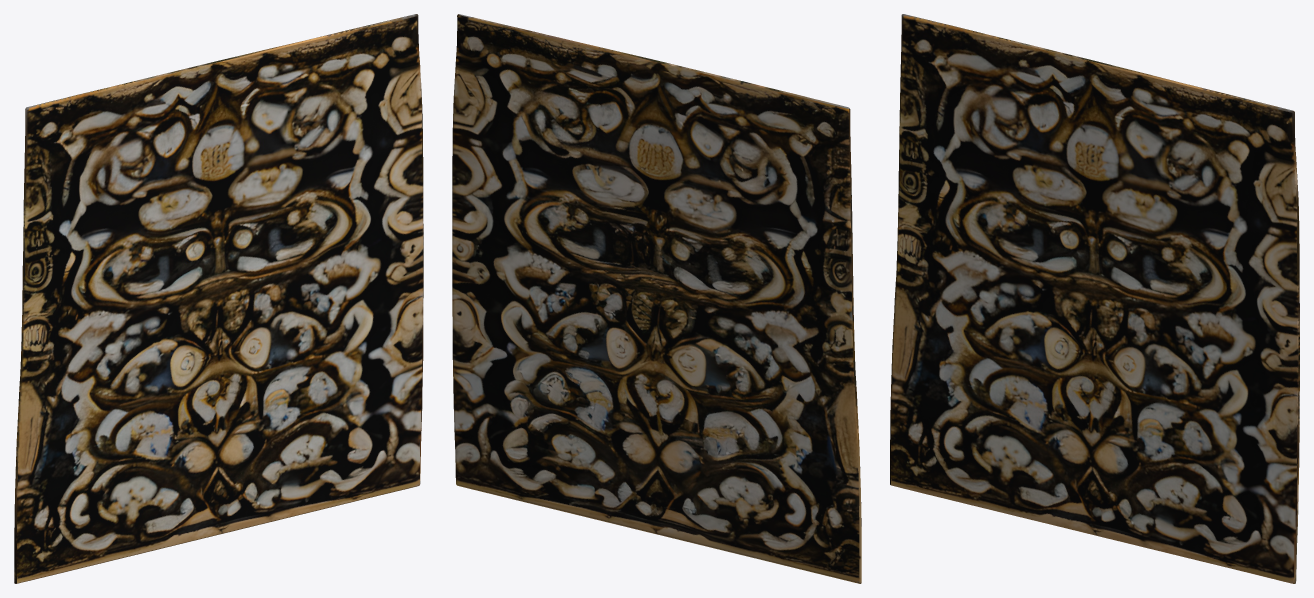
3 views of the same model, side by side, from view 1: azimuth 30°, elevation 25°; view 2: azimuth 150°, elevation 25°; view 3: azimuth 330°, elevation 25° (orthographic).
Parts seen in each view (by area): view 1: textured_mesh; view 2: textured_mesh; view 3: textured_mesh.
Boxes of the visible parts, x1,y1,x2,y2 form: textured_mesh: (14, 14, 423, 583); textured_mesh: (452, 14, 861, 583); textured_mesh: (890, 14, 1299, 583).
Bounding box in the file's own units: 1.8 × 1.99 × 0.0157.
Materials: 1 (1 with a texture image).
